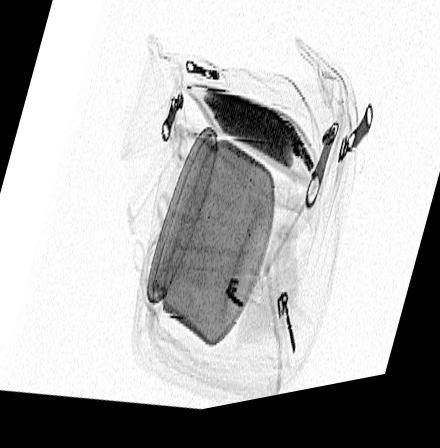Powerbank: (186, 92, 305, 184)
